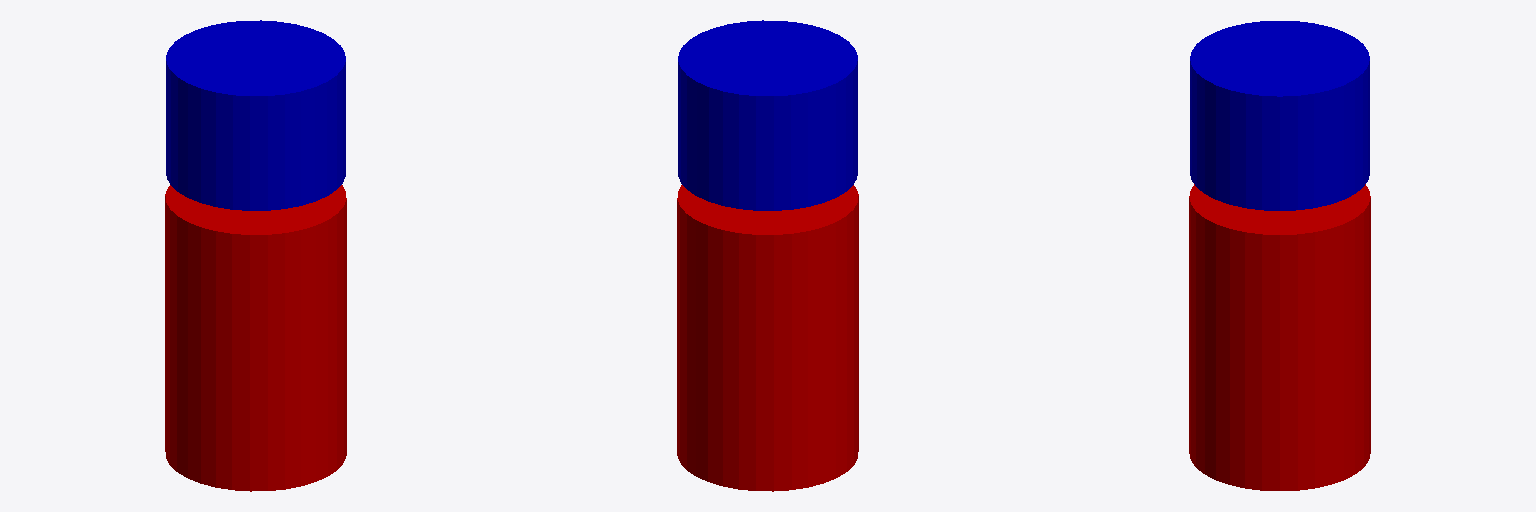
URDF robot description (naro):
<robot name="naro">

    <material name="blue">
        <color rgba="0 0 0.8 1"/>
    </material>
    <material name="red">
        <color rgba="0.8 0 0 1"/>
    </material>
    <material name="green">
        <color rgba="0 0.8 0 1"/>
    </material>
    <material name="purple">
        <color rgba="0.8 0 0.8 1"/>
    </material>

    <gazebo>
        <plugin name="gazebo_ros_control" filename="libgazebo_ros_control.so">
            <robotNamespace>/naro</robotNamespace>
            <robotSimType>gazebo_ros_control/DefaultRobotHWSim</robotSimType>
            <legacyModeNS>true</legacyModeNS>
        </plugin>
    </gazebo>

    <!-- * * * Link Definitions * * * -->
    <link name="dummy_link">
    </link>

    <link name="base_link">
       <inertial>
            <origin xyz="0 0 0" rpy="0 0 0"/>
            <mass value="0.2" />
            <inertia ixx="0.0005726" ixy="0.0" ixz="0.0" iyy="0.0005726" iyz="0.0" izz="0.0002704"/>
        </inertial>
        <collision>
            <origin rpy="0.0 0 0" xyz="0 0 0"/>
            <geometry>
                <cylinder radius="0.052" length="0.162"/>
            </geometry>
        </collision>
        <visual>
            <origin rpy="0.0 0 0" xyz="0 0 0"/>
            <geometry>
                <cylinder radius="0.052" length="0.162"/>
            </geometry>
            <material name="red"/>
        </visual>
    </link>

    <gazebo reference="base_link">
        <kp>1000000.0</kp>
        <kd>1000000.0</kd>
        <mu1>10.0</mu1>
        <mu2>10.0</mu2>
        <material>Gazebo/Red</material>
    </gazebo>
    
    <joint name="dummy_joint" type="fixed">
        <parent link="dummy_link"/>
        <child link="base_link"/>
    </joint>

    <link name="NaroBody_2_link">
        <inertial>
            <origin xyz="0 0 0.0362" rpy="0 0 0"/>
            <mass value="0.2" />
            <inertia ixx="0.000220439071667" ixy="0.0" ixz="0.0" iyy="0.000220439071667" iyz="0.0" izz="0.00026615281"/>
        </inertial>
        <collision>
            <origin xyz="0 0 0.0362" rpy="0 0 0"/>
            <geometry>
                <cylinder radius="0.05159" length="0.0724"/>
            </geometry>
        </collision>
        <visual>
            <origin xyz="0 0 0.0362" rpy="0 0 0"/>
            <geometry>
                <cylinder radius="0.05159" length="0.0724"/>
            </geometry>
            <material name="blue"/>
        </visual>
    </link>
    
    <!-- This is for color and physical properties in Gazebo, color won't work with the material tag in gazebo
    only for URDF coloring -->
    <gazebo reference="NaroBody_2_link">
        <kp>1000000.0</kp>
        <kd>1000000.0</kd>
        <mu1>10.0</mu1>
        <mu2>10.0</mu2>
        <material>Gazebo/Blue</material>
    </gazebo>

    <joint name="NaroBody_1_NaroBody_2_joint" type="revolute">
        <parent link="base_link"/>
        <child link="NaroBody_2_link"/>
        <origin xyz="0 0 0.096" rpy="0 0 0"/>
        <limit lower="-0.2" upper="0.2" effort="10.0" velocity="1.0"/>
        <axis xyz="1 0 0"/>
    </joint>

    <transmission name="tran1">
        <type>transmission_interface/SimpleTransmission</type>
        <joint name="NaroBody_1_NaroBody_2_joint">
            <hardwareInterface>hardware_interface/EffortJointInterface</hardwareInterface>
        </joint>
        <actuator name="motor1">
            <hardwareInterface>hardware_interface/EffortJointInterface</hardwareInterface>
            <mechanicalReduction>1</mechanicalReduction>
        </actuator>
    </transmission>

</robot>

--- Render facts (derived) ---
3 views of the same robot in one strip: view 1: azimuth 30°, elevation 25°; view 2: azimuth 150°, elevation 25°; view 3: azimuth 270°, elevation 25° (orthographic).
Robot: naro — 3 links, 2 joints (1 revolute, 1 fixed); root link dummy_link; default pose: every joint at zero.
Links seen in each view (by area): view 1: base_link, NaroBody_2_link; view 2: base_link, NaroBody_2_link; view 3: base_link, NaroBody_2_link.
Link boxes in pixels (<box>): base_link: <box>165,185,346,491</box>; NaroBody_2_link: <box>166,20,345,210</box>; base_link: <box>677,185,858,491</box>; NaroBody_2_link: <box>678,20,857,210</box>; base_link: <box>1189,184,1370,490</box>; NaroBody_2_link: <box>1190,21,1369,210</box>.
Bounding box of the posed robot: 0.104 × 0.104 × 0.2494 m (x, y, z).
Geometry: primitives only (box / cylinder / sphere), no mesh files.
